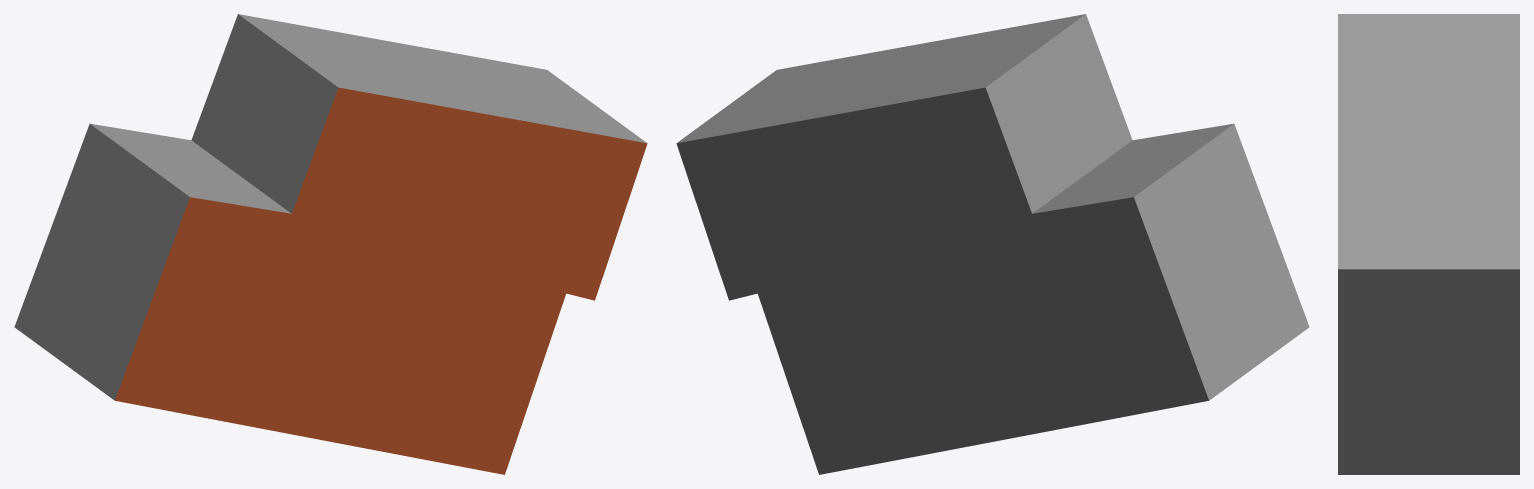
File: construction_2777_assumed_A_Casa_h6m.obj
The picture shows the model from 3 angles, left to right: view 1: azimuth 30°, elevation 25°; view 2: azimuth 150°, elevation 25°; view 3: azimuth 270°, elevation 25°; orthographic projection. The views are drawn at different scales.
Parts seen in each view (by area): view 1: construction_2777_assumed_A_Casa; view 2: construction_2777_assumed_A_Casa; view 3: construction_2777_assumed_A_Casa.
Boxes of the visible parts, bbox=[...] form: construction_2777_assumed_A_Casa: bbox=[14, 14, 647, 474]; construction_2777_assumed_A_Casa: bbox=[676, 14, 1309, 474]; construction_2777_assumed_A_Casa: bbox=[1338, 14, 1519, 474].
Bounding box in the file's own units: 18.38 × 14.11 × 6.
